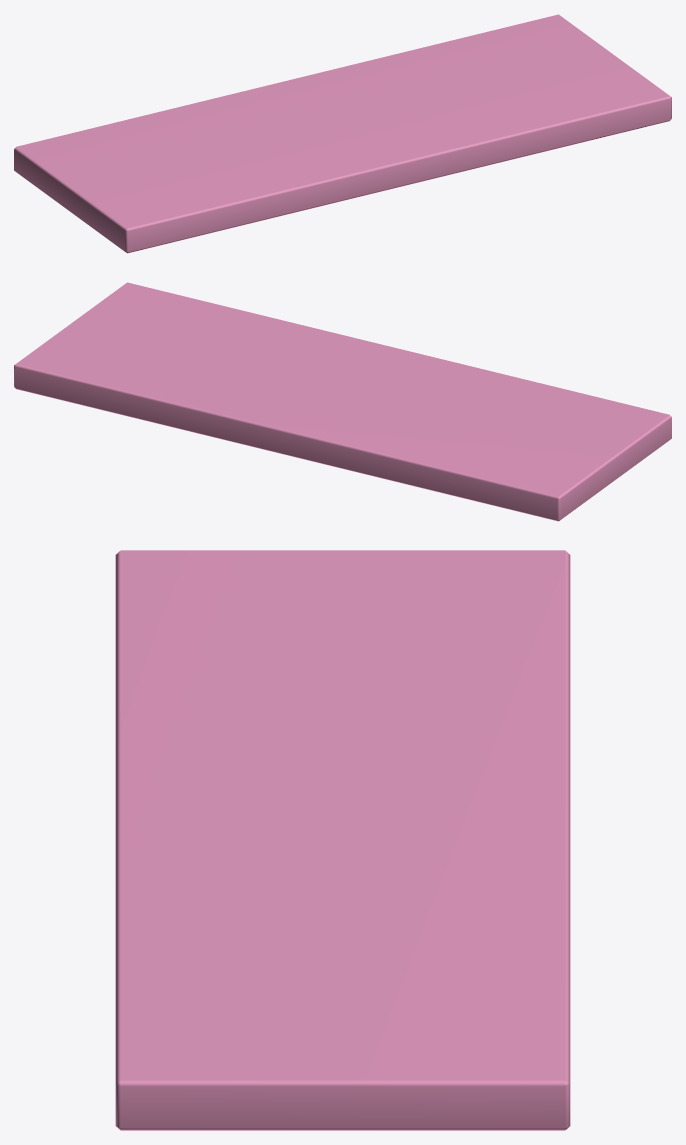
File: raf4.fbx
The picture shows the model from 3 angles, top to bottom: view 1: azimuth 30°, elevation 25°; view 2: azimuth 150°, elevation 25°; view 3: azimuth 270°, elevation 25°; orthographic projection. The views are drawn at different scales.
Parts seen in each view (by area): view 1: pCube40; view 2: pCube40; view 3: pCube40.
Part boxes in pixels (box(x1,y1,x2,y2)): pCube40: box(14, 14, 671, 253); pCube40: box(14, 282, 671, 521); pCube40: box(115, 550, 570, 1130).
Bounding box in the file's own units: 108 × 4.82 × 39.05.
